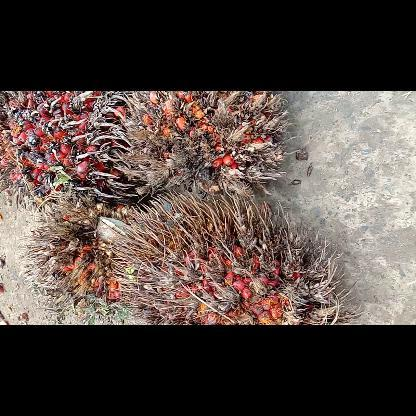Terlalu masak: (94, 188, 364, 324), (106, 90, 302, 206), (20, 196, 150, 322), (0, 91, 140, 207)
